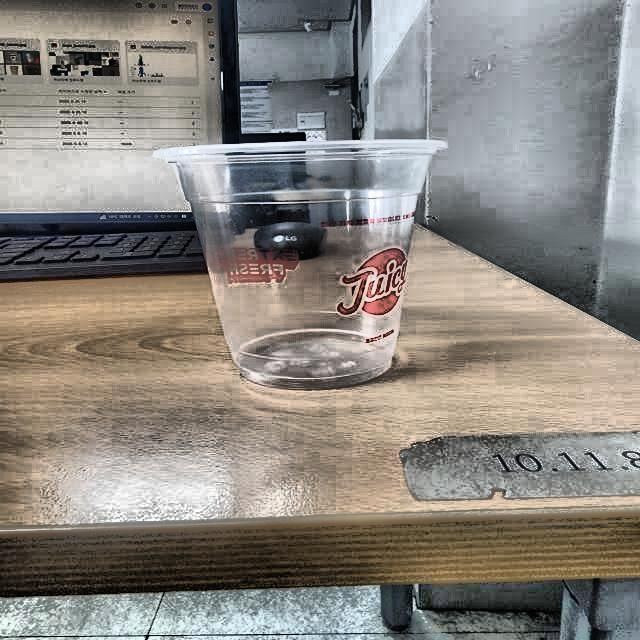plastic cup: (150, 139, 456, 389)
